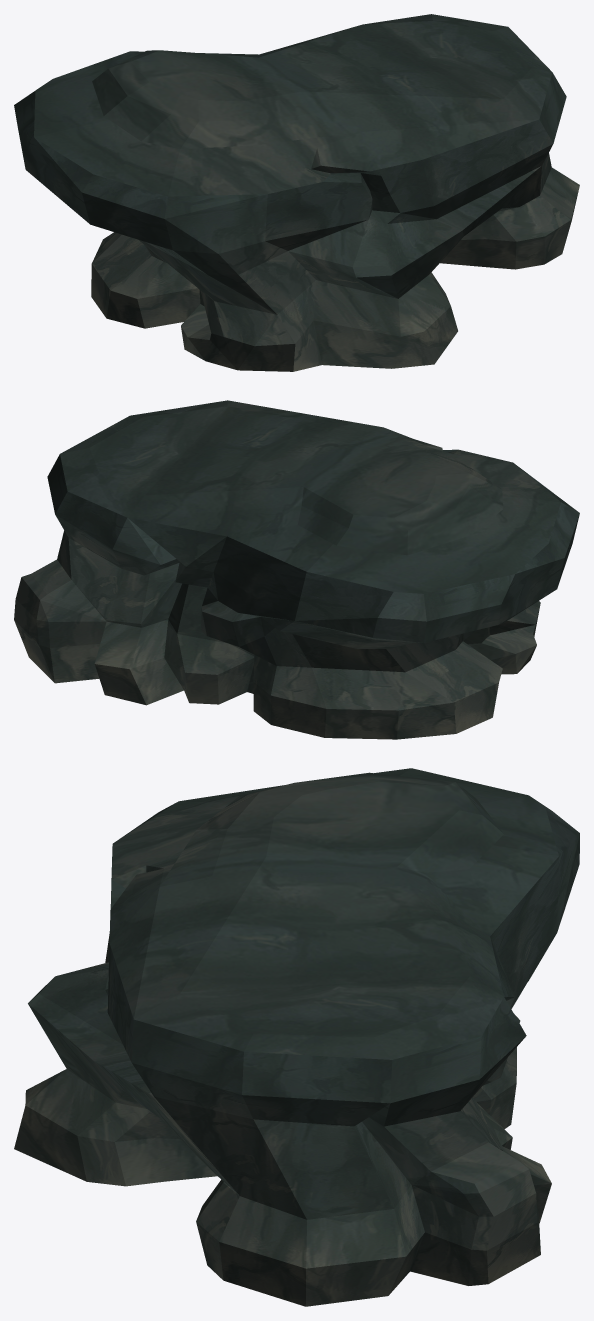
The model's file is ETC0610075.fbx.
3 views of the same model, one above another, from view 1: azimuth 30°, elevation 25°; view 2: azimuth 150°, elevation 25°; view 3: azimuth 270°, elevation 25° (orthographic). The views are drawn at different scales.
Parts seen in each view (by area): view 1: smETC0610075; view 2: smETC0610075; view 3: smETC0610075.
Boxes of the visible parts, left/top/right/bottom form: smETC0610075: left=14, top=14, right=579, bottom=371; smETC0610075: left=14, top=400, right=579, bottom=739; smETC0610075: left=14, top=768, right=579, bottom=1306.
Bounding box in the file's own units: 325 × 132 × 244.
Materials: 1 (1 with a texture image).
